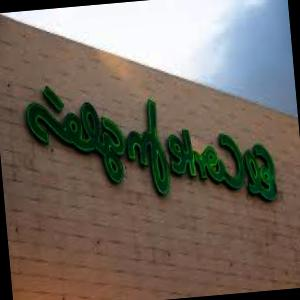corte_ingles: (2, 64, 299, 225)
